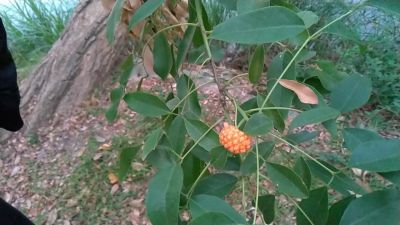eggs: (217, 121, 251, 153)
